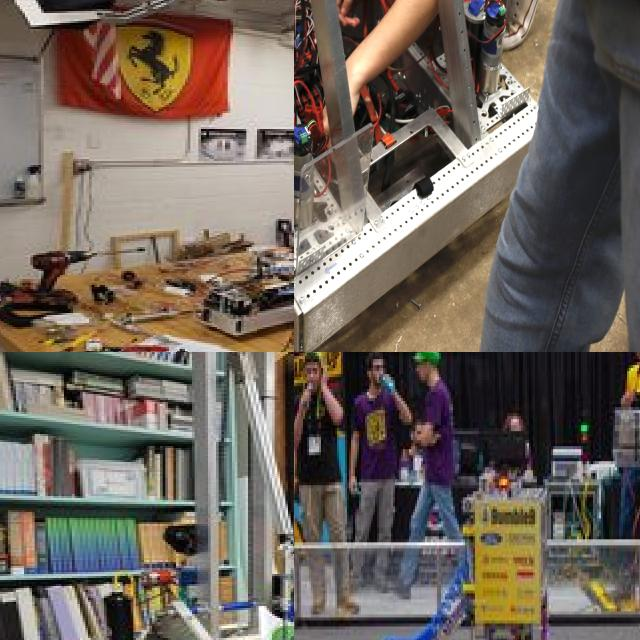FRC-Robots: (294, 0, 586, 331), (0, 352, 294, 640), (336, 414, 615, 640)
